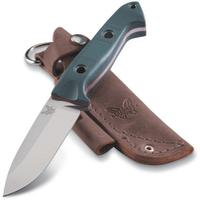knife: (2, 2, 141, 198)
